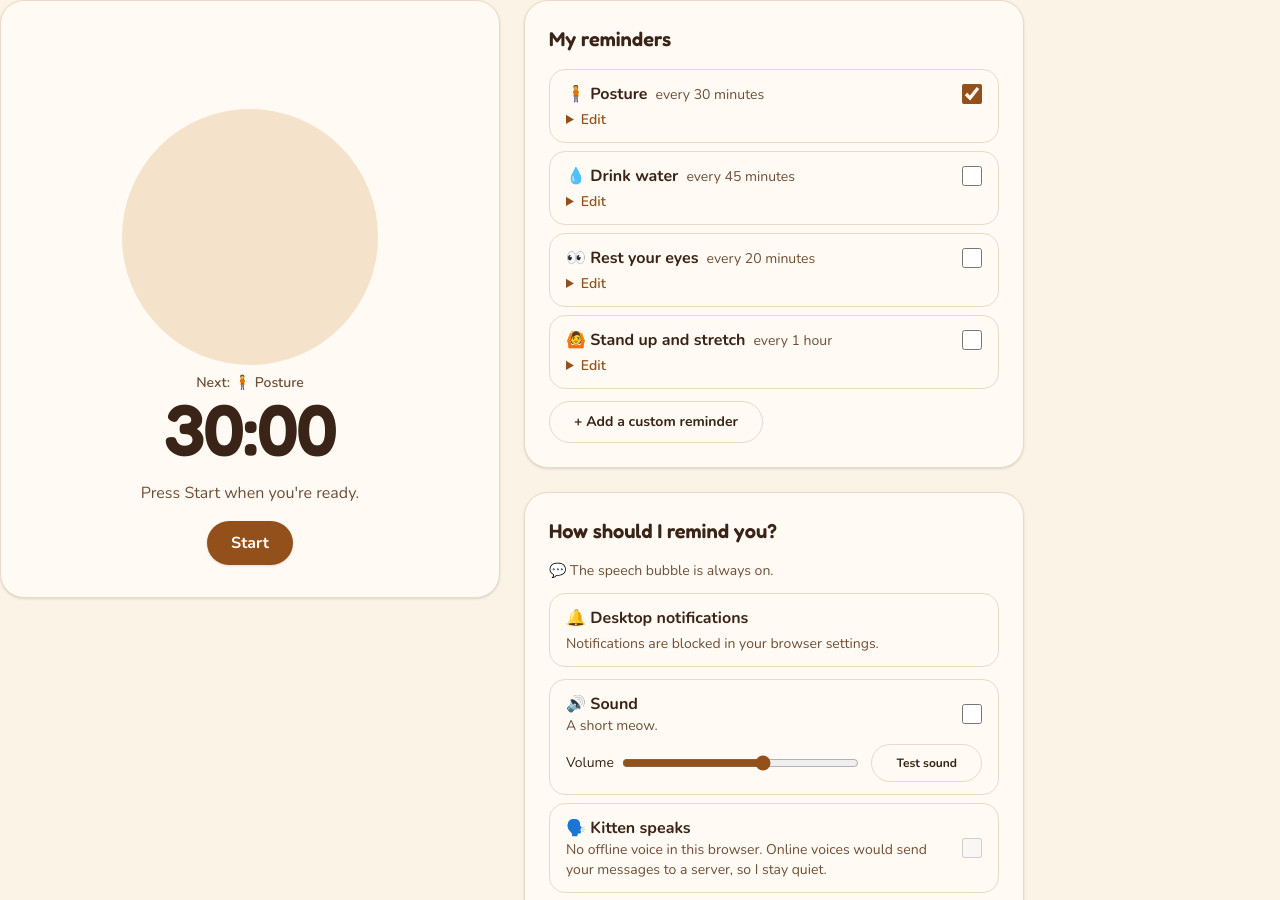
Test: one reminder › counts down, reminds, waits for 'I'm sitting tall', then starts again
The width and height of the screenshot is (1280, 900).
Click the button "Start": (250, 543) [207, 521, 293, 565]
Wait 1800000 ms
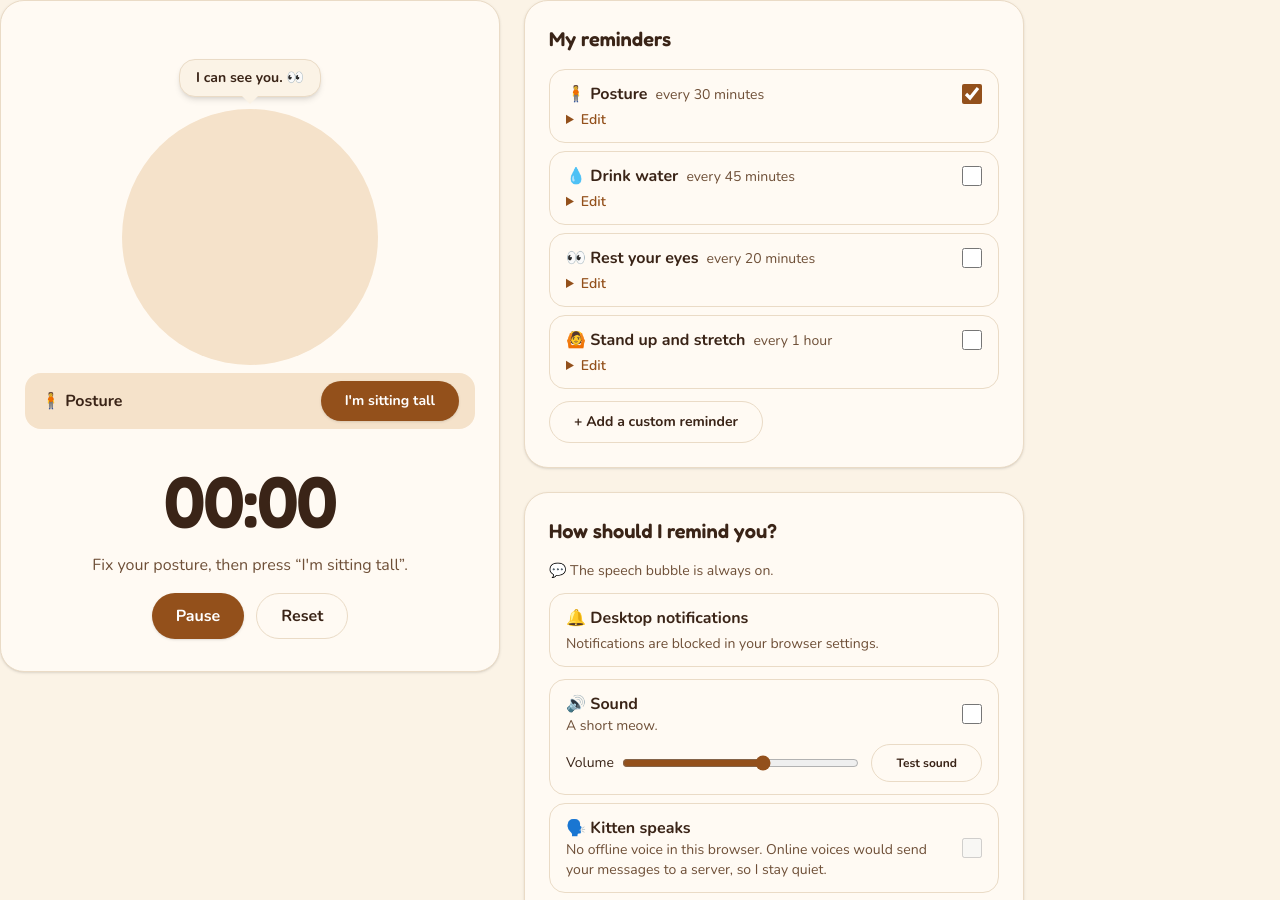
Check: the text "Posture" is shown, box [65, 390, 122, 412]
Check: the text with test id "speech-bubble" reads "I can see you. 👀", box [196, 68, 304, 87]
Check: the message with test id "reminder-status" shows "Fix your posture", box [92, 554, 408, 576]
Click the button "I'm sitting tall": (390, 401) [321, 381, 459, 421]
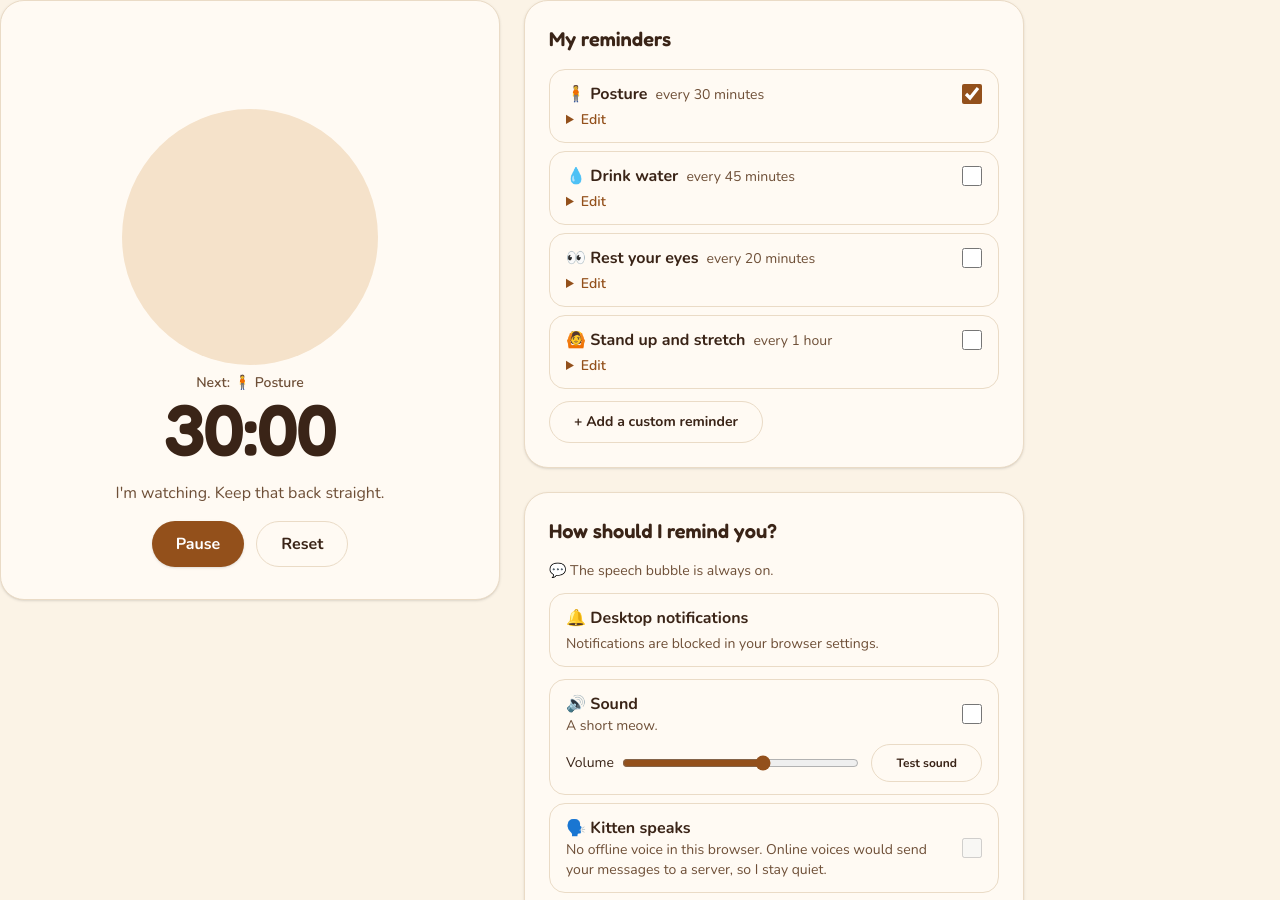
Check: the text with test id "speech-bubble" is gone
